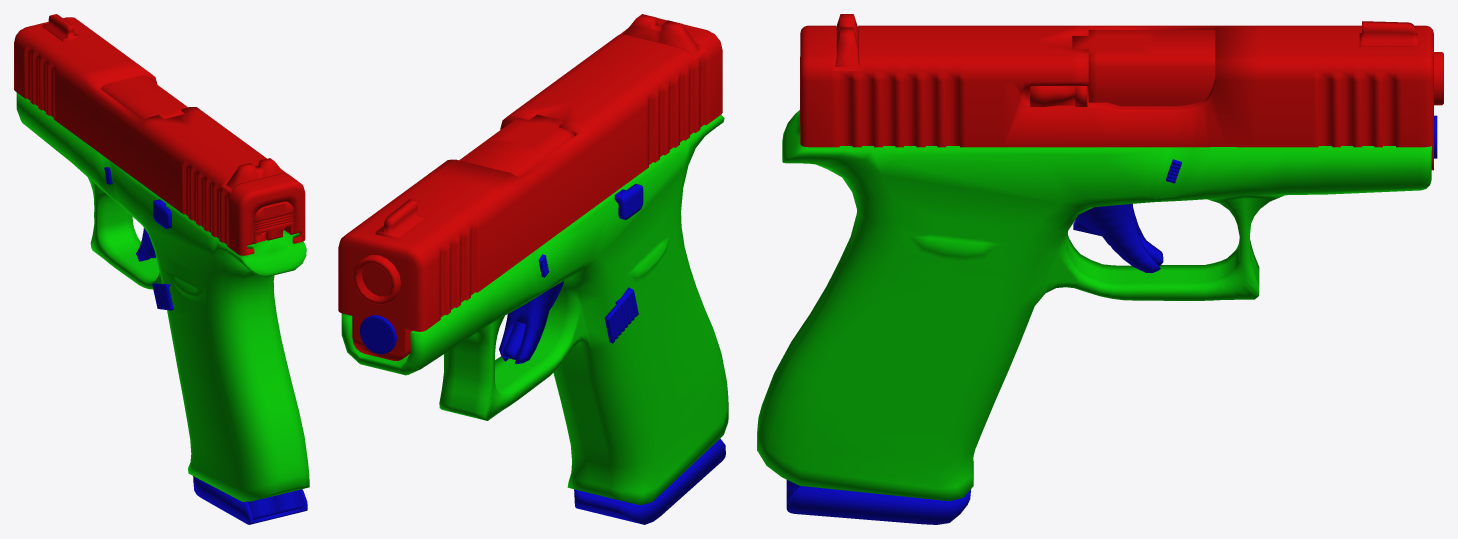
3 views of the same model, side by side, from view 1: azimuth 30°, elevation 25°; view 2: azimuth 150°, elevation 25°; view 3: azimuth 270°, elevation 25° (orthographic). The views are drawn at different scales.
Parts seen in each view (by area): view 1: Gun_Body.003, Gun_Slide.003, Magazine.001; view 2: Gun_Body.003, Gun_Slide.003, Magazine.001; view 3: Gun_Body.003, Gun_Slide.003, Magazine.001.
Part boxes in pixels (<box>): Gun_Body.003: <box>16,92,309,501</box>; Gun_Slide.003: <box>14,14,305,255</box>; Magazine.001: <box>104,167,307,524</box>; Gun_Body.003: <box>341,114,728,505</box>; Gun_Slide.003: <box>338,14,722,360</box>; Magazine.001: <box>359,184,725,524</box>; Gun_Body.003: <box>757,110,1431,501</box>; Gun_Slide.003: <box>800,14,1443,170</box>; Magazine.001: <box>786,115,1437,524</box>.
Bounding box in the file's own units: 0.2574 × 1.15 × 1.48.
